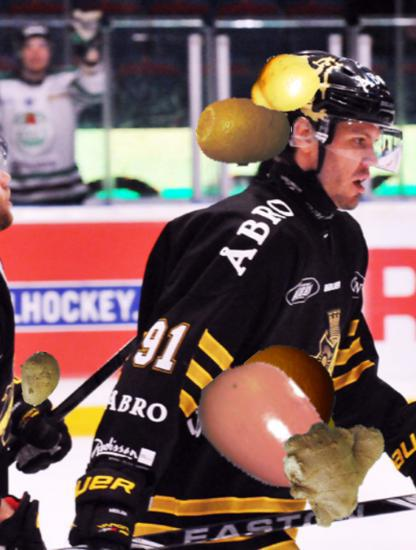Banana: (268, 355, 371, 458)
Ginger: (284, 416, 393, 525)
Kaki: (194, 357, 338, 501)
Kumquats: (195, 83, 293, 181)
Orange: (233, 344, 339, 450)
Potato: (12, 352, 67, 407)
Quince: (247, 48, 319, 120)
